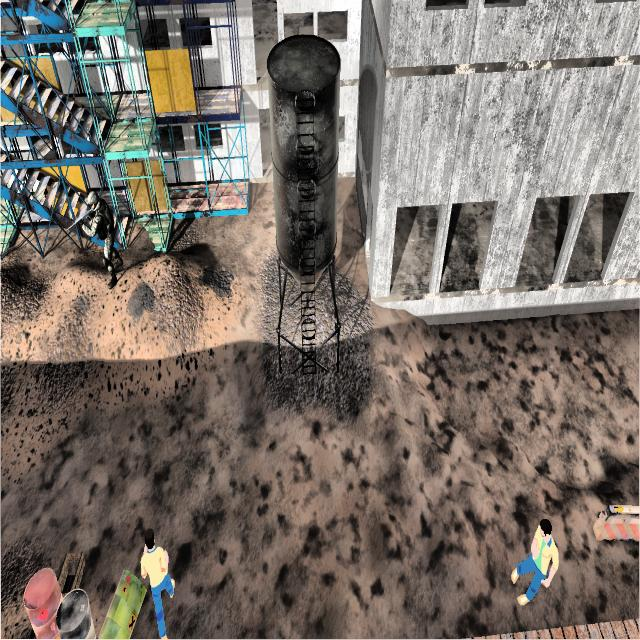bad: (79, 177, 125, 302)
good: (128, 522, 184, 640), (505, 501, 561, 614)
